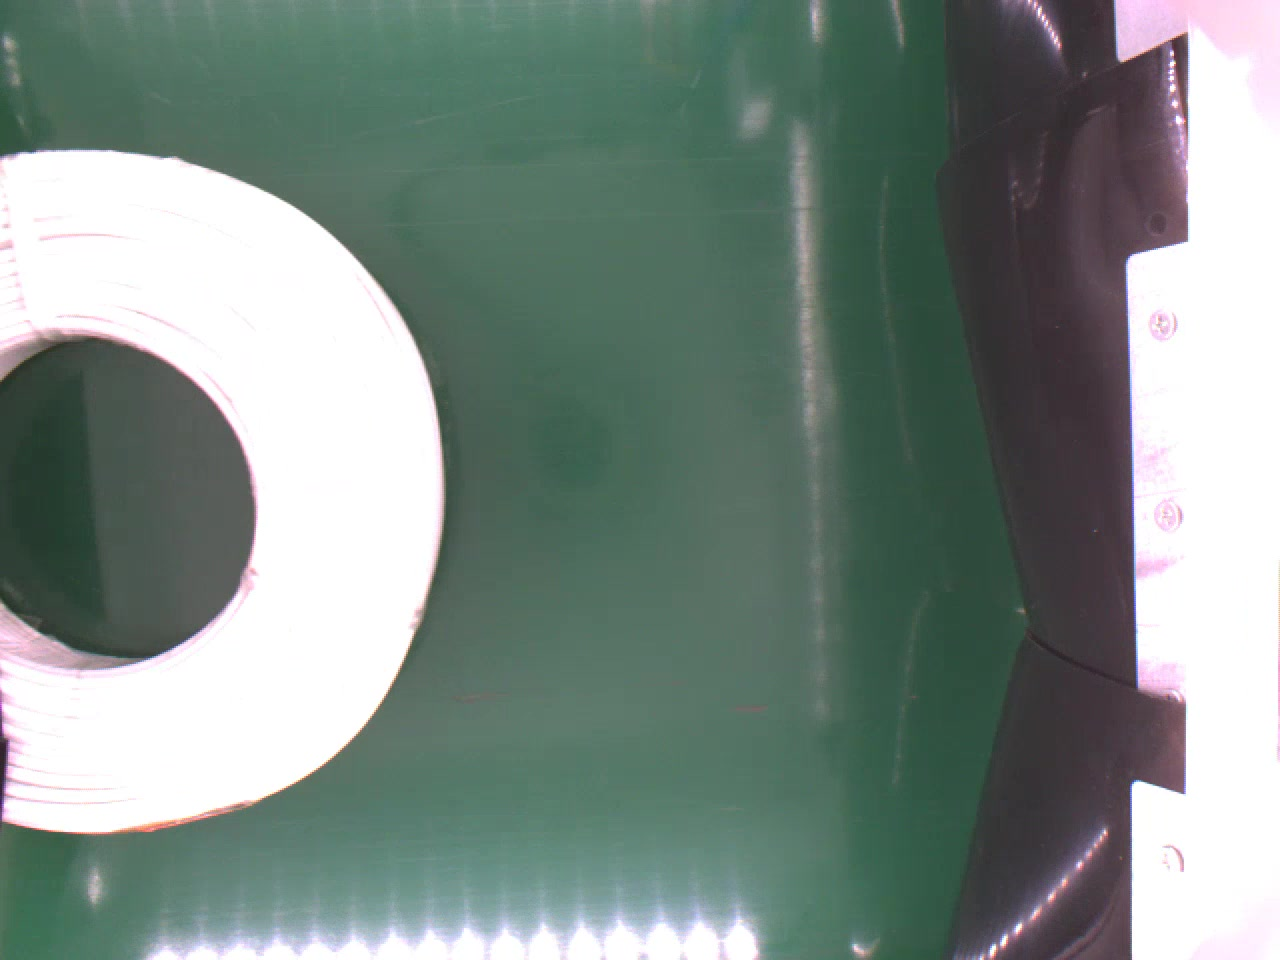white: (0, 150, 444, 840)
